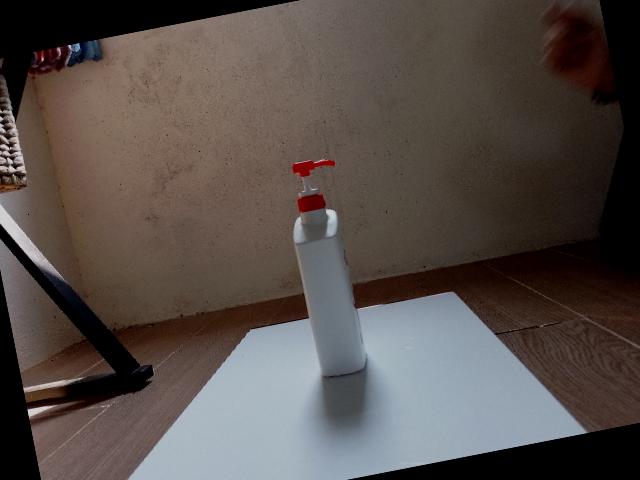life-buoy: (292, 159, 367, 378)
